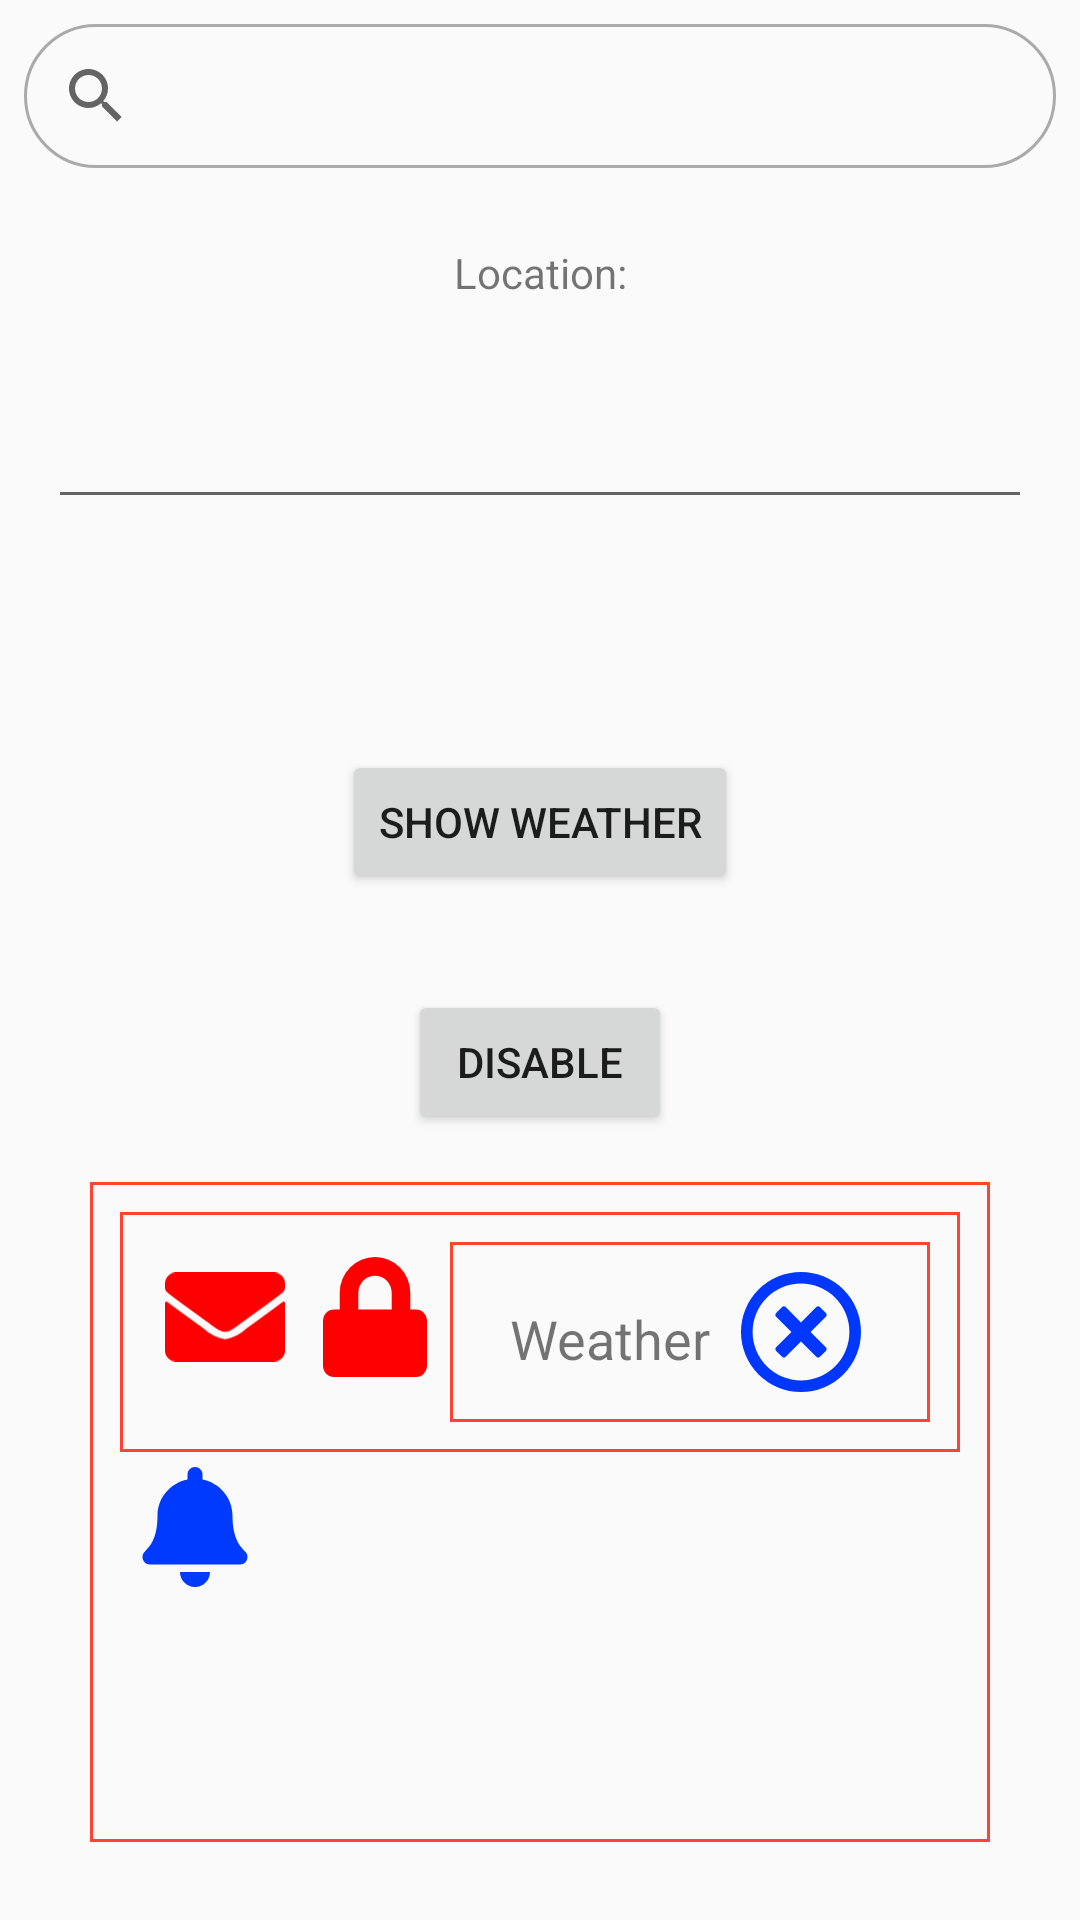

Icons on this 1080x1920 Android screen, each with its box as (x1,y1,x2,y2):
delete: (741,1272,861,1392)
email: (165,1272,285,1362)
notify: (142,1467,248,1587)
password: (323,1257,427,1377)
